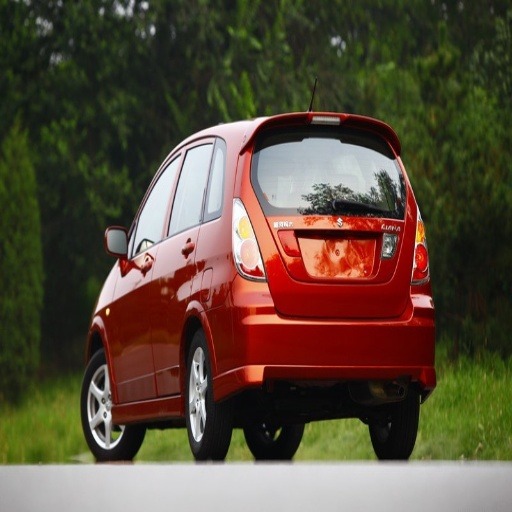back_bumper: (220, 278, 433, 389)
back_glass: (268, 126, 401, 212)
back_left_door: (148, 139, 215, 392)
back_left_light: (234, 216, 268, 280)
tailgate: (249, 193, 403, 295)
trunk: (371, 206, 407, 312)
